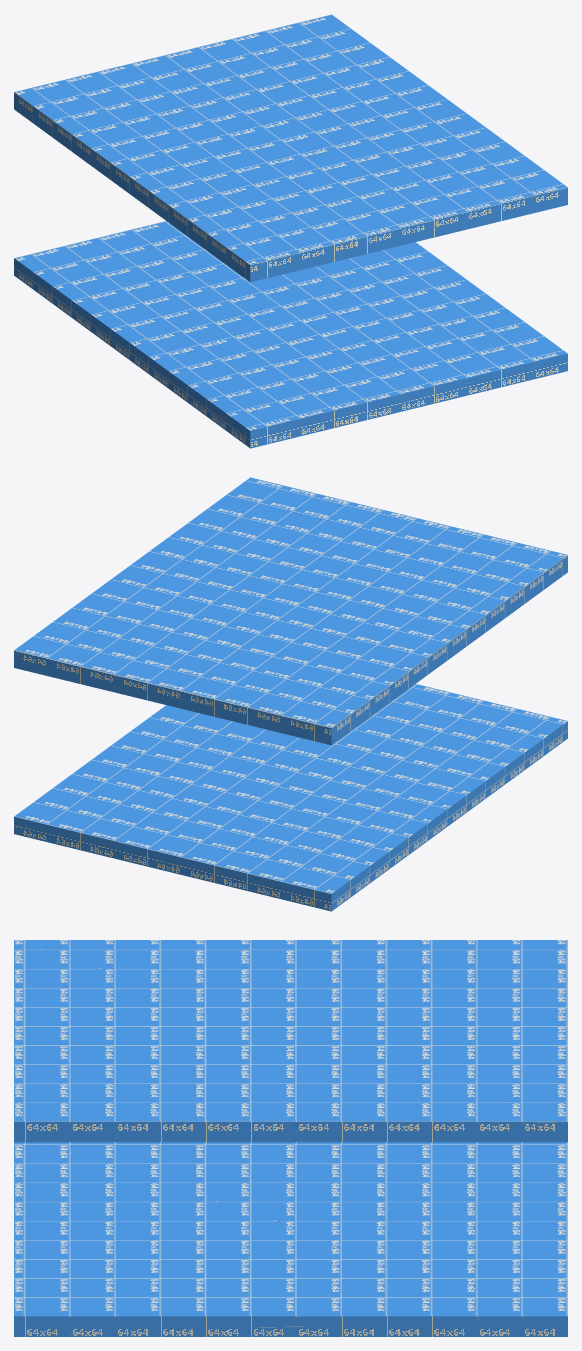
File: Boxes2.obj
3 views of the same model, one above another, from view 1: azimuth 30°, elevation 25°; view 2: azimuth 150°, elevation 25°; view 3: azimuth 270°, elevation 25° (orthographic). The views are drawn at different scales.
Visible parts, largest first — view 1: entity0_brush1, entity0_brush0; view 2: entity0_brush1, entity0_brush0; view 3: entity0_brush1, entity0_brush0.
Boxes of the visible parts, box(x1,y1,x2,y2) form: entity0_brush1: box(14, 14, 567, 282); entity0_brush0: box(14, 221, 567, 448); entity0_brush1: box(14, 477, 567, 745); entity0_brush0: box(14, 684, 567, 911); entity0_brush1: box(14, 940, 567, 1142); entity0_brush0: box(14, 1142, 567, 1336).
Size of the model in its own units: 608 by 336 by 784.
2 materials, 2 textured.
